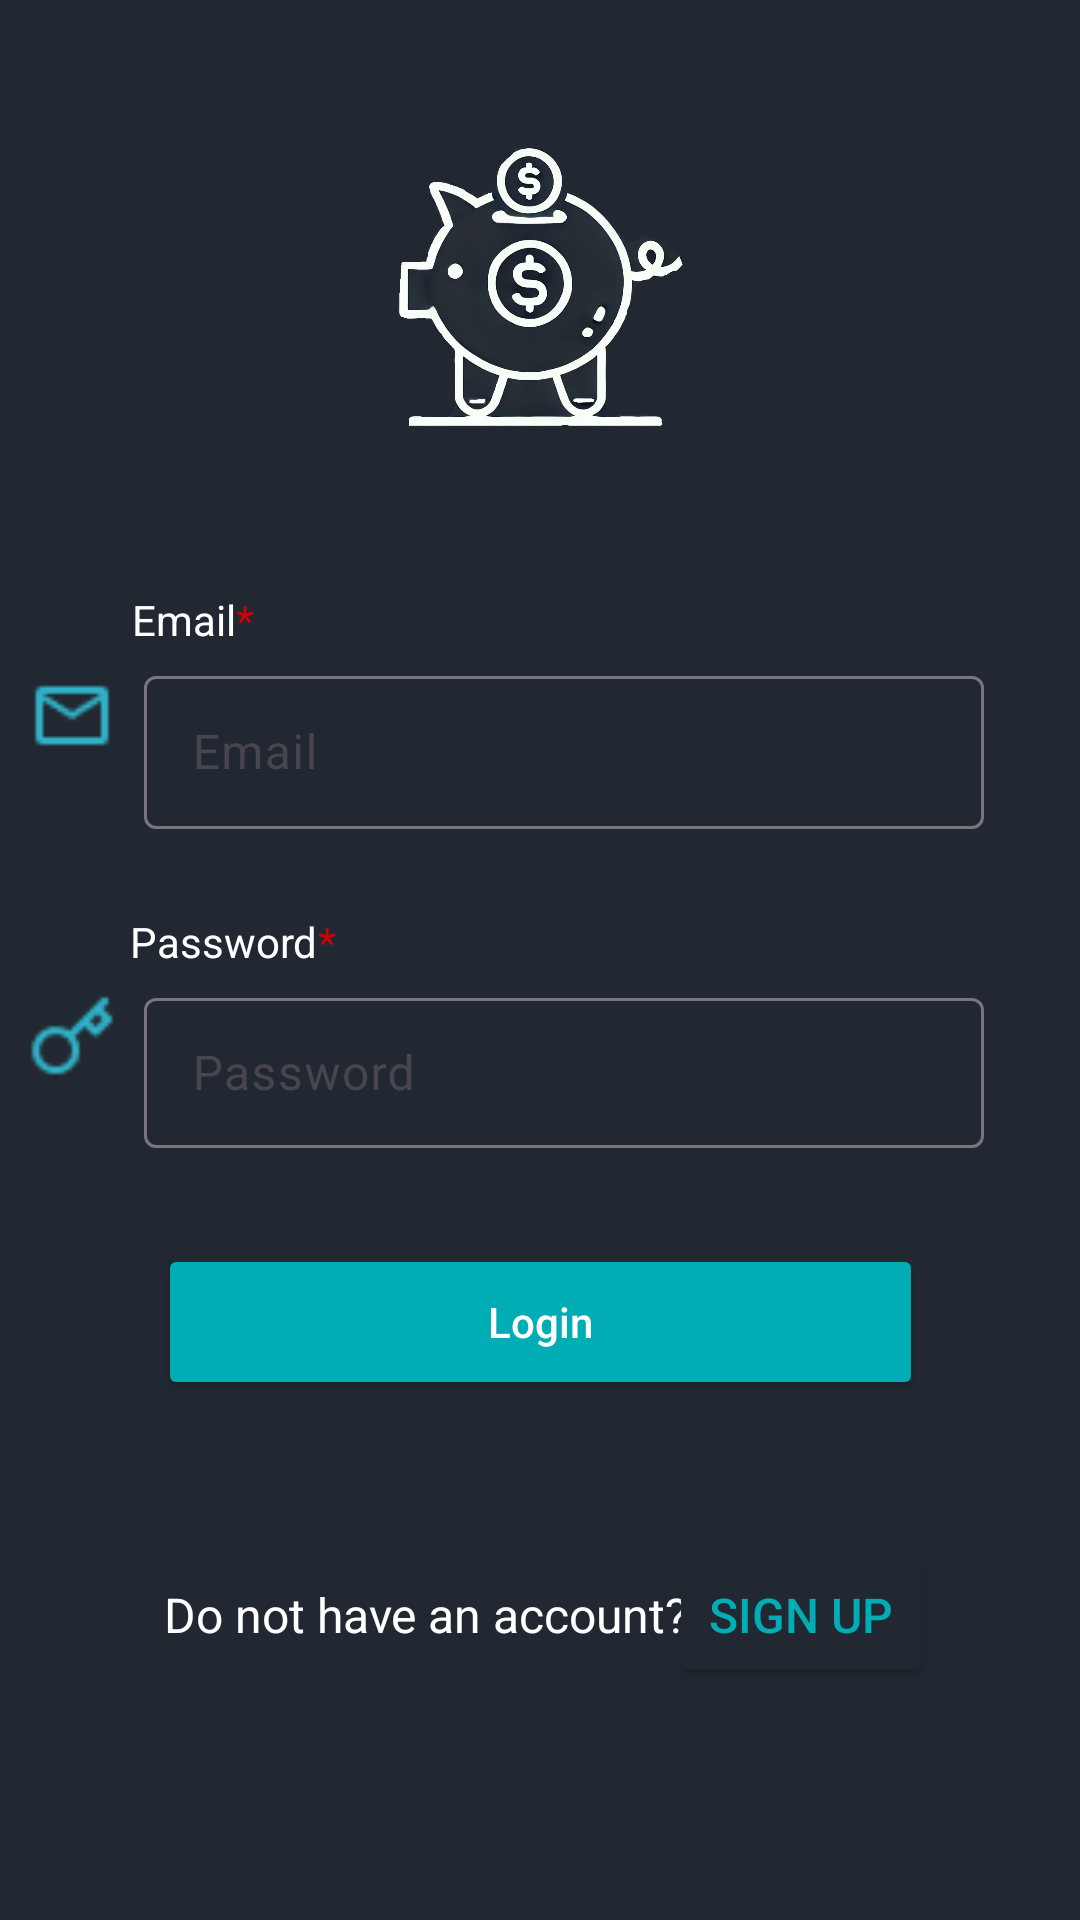

Locate icon controls on the screen. Image size 1080px x 1920px, boxes as (x1, y1, x2, y2).
wisesaver: (399, 148, 683, 426)
